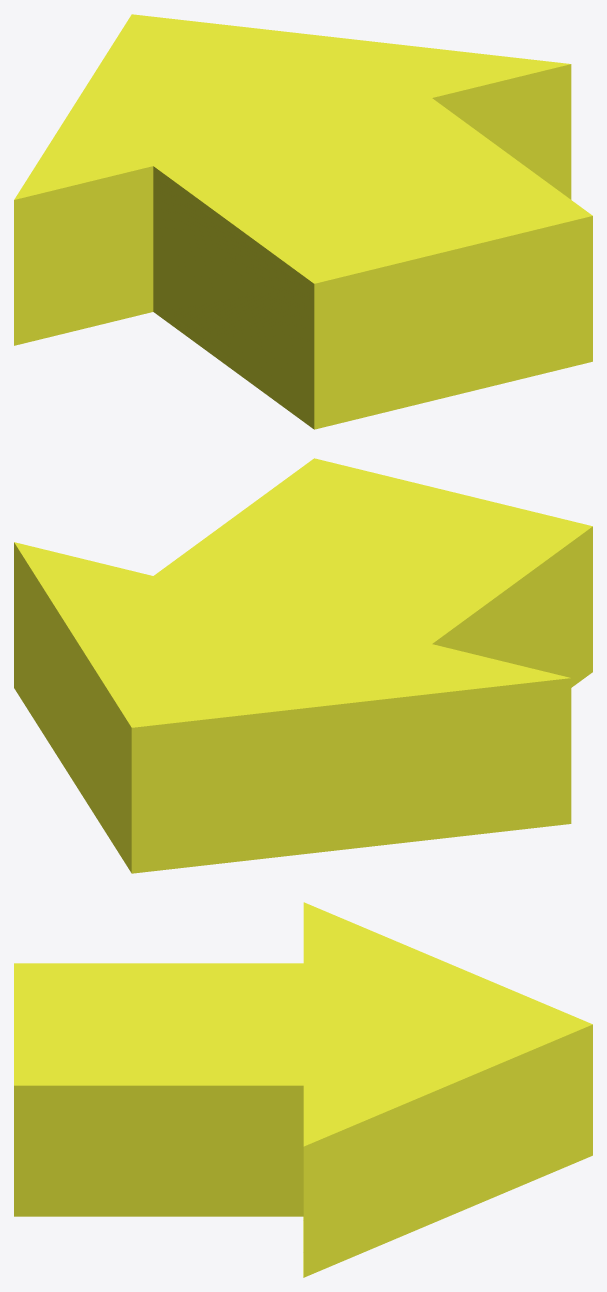
The model's file is Props_Conveyor_Arrow_01.fbx.
3 views of the same model, one above another, from view 1: azimuth 30°, elevation 25°; view 2: azimuth 150°, elevation 25°; view 3: azimuth 270°, elevation 25° (orthographic). The views are drawn at different scales.
Visible parts, largest first — view 1: Props_Conveyor_Arrow_01; view 2: Props_Conveyor_Arrow_01; view 3: Props_Conveyor_Arrow_01.
Part boxes in pixels (left/top/right/bottom): Props_Conveyor_Arrow_01: left=14, top=14, right=592, bottom=429; Props_Conveyor_Arrow_01: left=14, top=458, right=592, bottom=873; Props_Conveyor_Arrow_01: left=14, top=902, right=592, bottom=1277.
Size of the model in its own units: 50 by 12.5 by 50.
